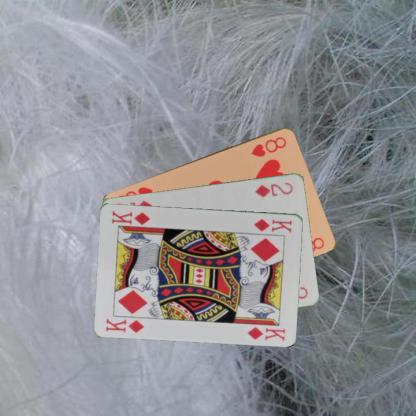2d: (252, 179, 295, 199)
8h: (248, 134, 288, 158)
Kd: (104, 315, 146, 334), (252, 216, 293, 234)
